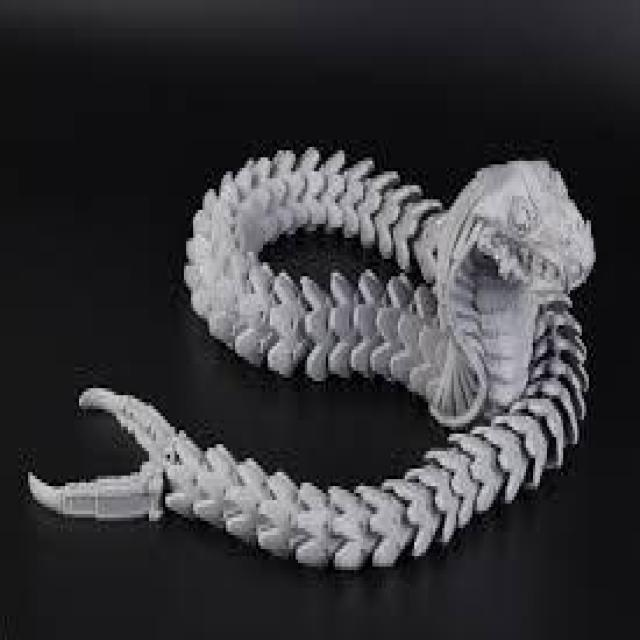Without deffect: (22, 117, 616, 602)
